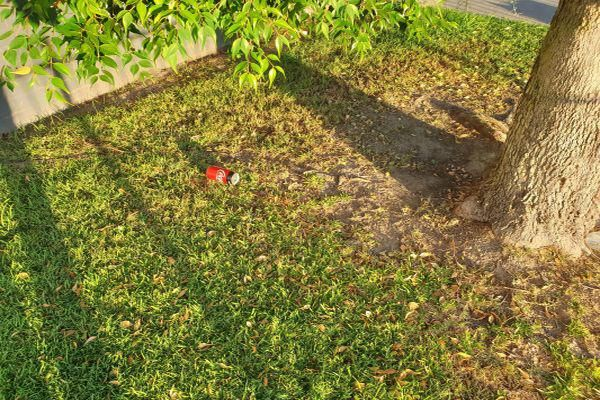Plastic Bottle: (205, 165, 240, 186)
